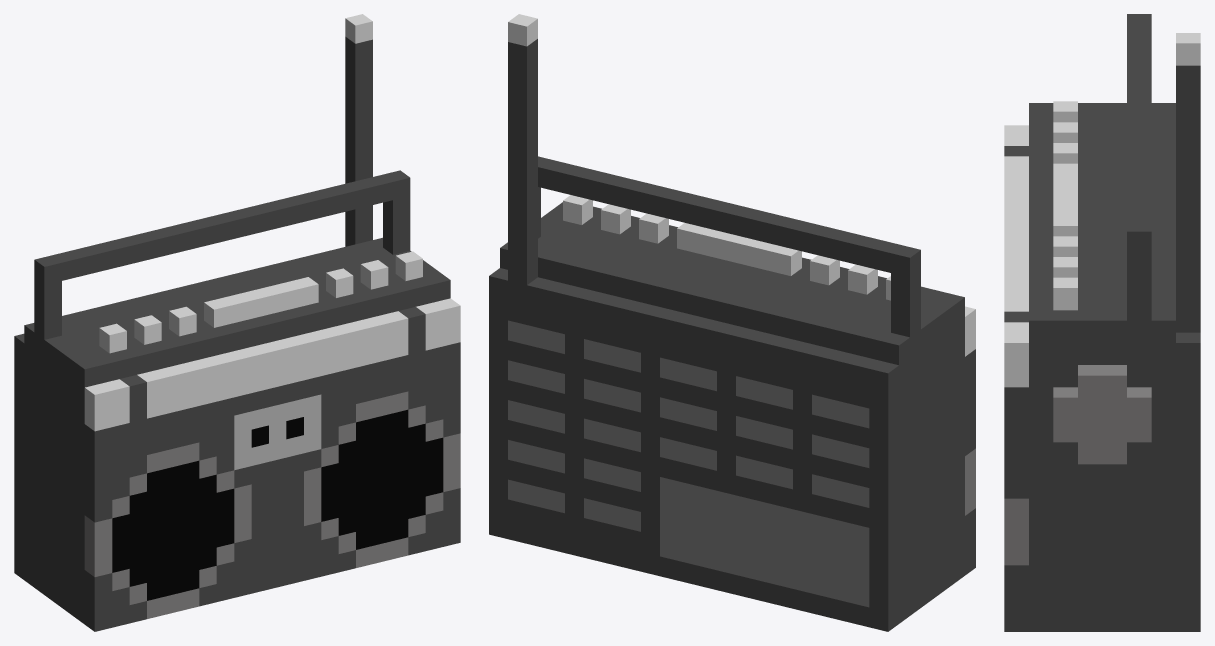
Rendered from cassette_player.glb.
3 renders of one model, left to right at view 1: azimuth 30°, elevation 25°; view 2: azimuth 150°, elevation 25°; view 3: azimuth 270°, elevation 25°, orthographic. The views are drawn at different scales.
Parts seen in each view (by area): view 1: Layer.1; view 2: Layer.1; view 3: Layer.1.
Part boxes in pixels (x1,y1,x2,y2): Layer.1: (14, 14, 460, 631); Layer.1: (489, 14, 975, 631); Layer.1: (1004, 14, 1200, 631).
Size of the model in its own units: 8.8 by 10.4 by 3.2.
Materials: 1 (1 with a texture image).
